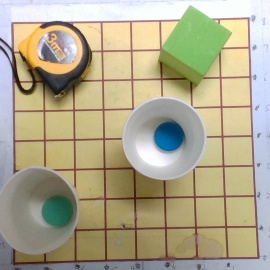cup_blue: (122, 97, 208, 181)
cup_green: (1, 163, 82, 254)
